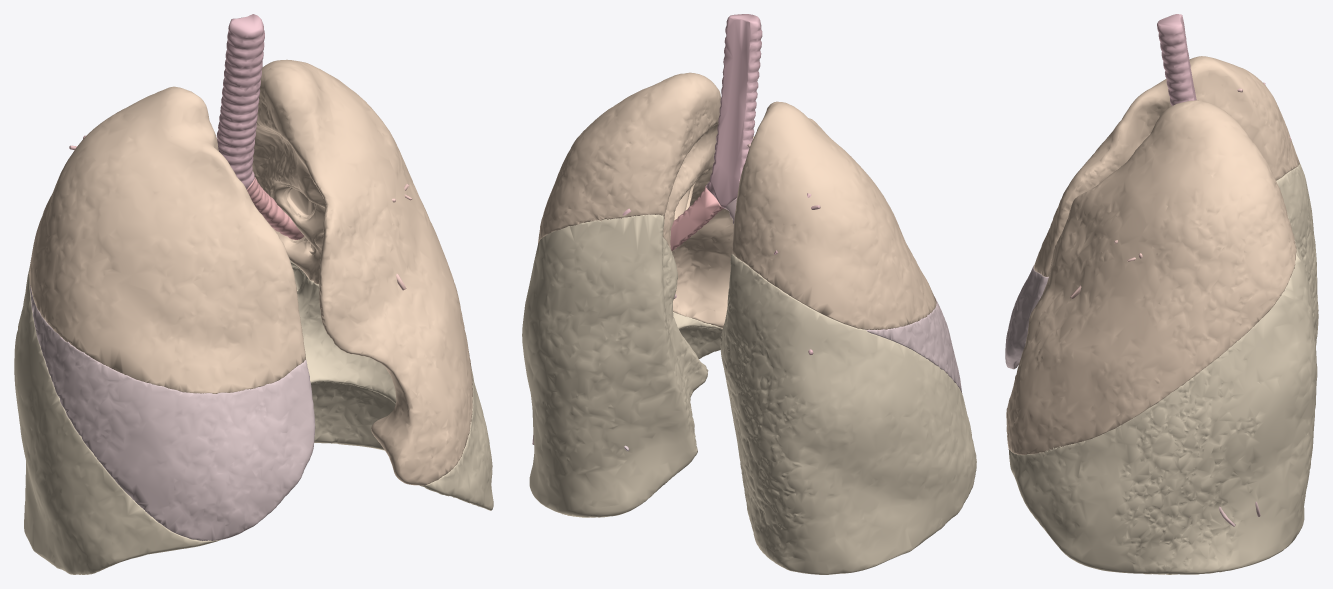
File: body-respiratory.lod0.glb
3 views of the same model, side by side, from view 1: azimuth 30°, elevation 25°; view 2: azimuth 150°, elevation 25°; view 3: azimuth 270°, elevation 25° (orthographic). The views are drawn at different scales.
Parts seen in each view (by area): view 1: upper-lobe-of-lung-r, upper-lobe-of-lung-l, middle-lobe-of-lung-r, lower-lobe-of-lung-r, lower-lobe-of-lung-l, trachea, main-bronchus-l; view 2: lower-lobe-of-lung-r, lower-lobe-of-lung-l, upper-lobe-of-lung-r, upper-lobe-of-lung-l, trachea, middle-lobe-of-lung-r, main-bronchus-l; view 3: upper-lobe-of-lung-l, lower-lobe-of-lung-l, upper-lobe-of-lung-r, lower-lobe-of-lung-r, trachea, middle-lobe-of-lung-r.
Part boxes in pixels (left/top/right/bottom): upper-lobe-of-lung-r: left=29, top=86, right=305, bottom=393; upper-lobe-of-lung-l: left=252, top=59, right=472, bottom=485; middle-lobe-of-lung-r: left=30, top=285, right=315, bottom=541; lower-lobe-of-lung-r: left=14, top=260, right=220, bottom=574; lower-lobe-of-lung-l: left=290, top=260, right=493, bottom=510; trachea: left=216, top=14, right=264, bottom=189; main-bronchus-l: left=247, top=177, right=303, bottom=239; lower-lobe-of-lung-r: left=720, top=254, right=976, bottom=574; lower-lobe-of-lung-l: left=522, top=214, right=722, bottom=517; upper-lobe-of-lung-r: left=732, top=101, right=936, bottom=329; upper-lobe-of-lung-l: left=538, top=72, right=753, bottom=328; trachea: left=706, top=14, right=762, bottom=208; middle-lobe-of-lung-r: left=864, top=296, right=962, bottom=393; main-bronchus-l: left=670, top=186, right=723, bottom=250; upper-lobe-of-lung-l: left=1006, top=100, right=1296, bottom=454; lower-lobe-of-lung-l: left=1008, top=240, right=1317, bottom=574; upper-lobe-of-lung-r: left=1033, top=56, right=1299, bottom=276; lower-lobe-of-lung-r: left=1276, top=164, right=1318, bottom=345; trachea: left=1157, top=14, right=1196, bottom=105; middle-lobe-of-lung-r: left=1005, top=265, right=1048, bottom=369.
Size of the model in its own units: 0.2534 by 0.2979 by 0.181.
